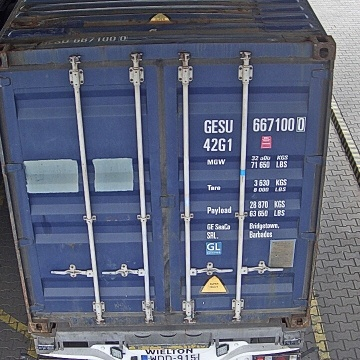serial_id: (204, 116, 305, 133)
